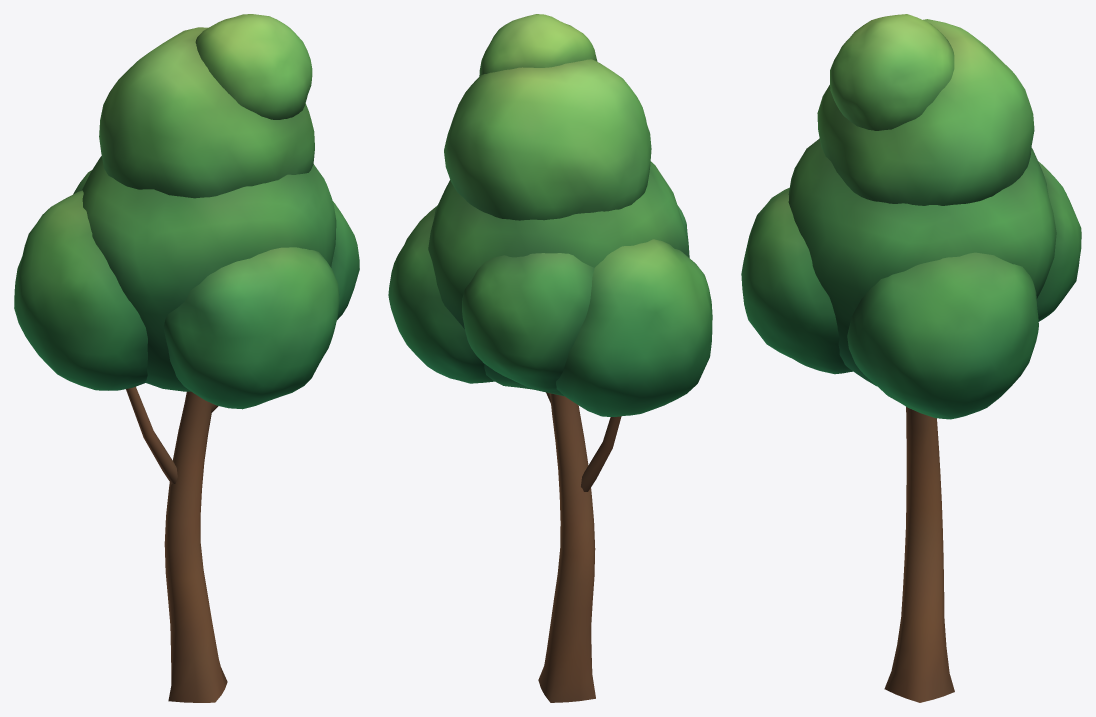
Rendered from tree_round_b.glb.
The picture shows the model from 3 angles, left to right: view 1: azimuth 30°, elevation 25°; view 2: azimuth 150°, elevation 25°; view 3: azimuth 270°, elevation 25°; orthographic projection. The views are drawn at different scales.
Parts seen in each view (by area): view 1: tree_round_b; view 2: tree_round_b; view 3: tree_round_b.
Boxes of the visible parts, box(x1,y1,x2,y2) form: tree_round_b: box(14, 14, 359, 702); tree_round_b: box(388, 14, 712, 702); tree_round_b: box(741, 14, 1081, 702).
Bounding box in the file's own units: 2.43 × 4.95 × 2.2.
